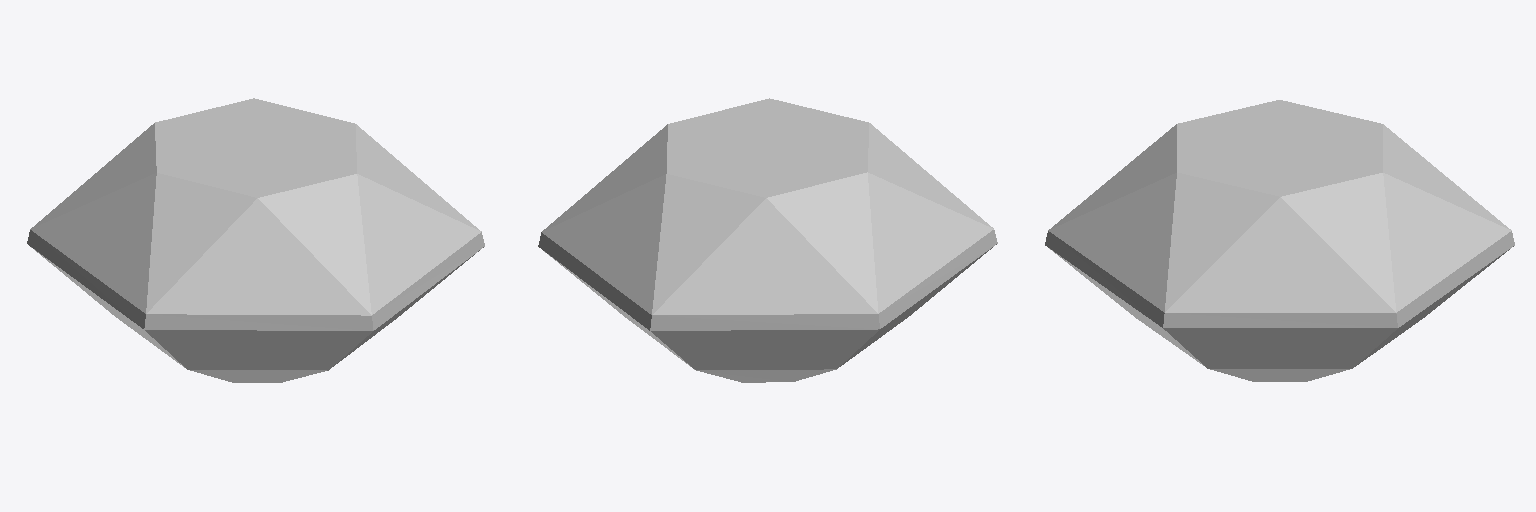
The model's file is Red Gem.obj.
3 renders of one model, left to right at view 1: azimuth 30°, elevation 25°; view 2: azimuth 150°, elevation 25°; view 3: azimuth 270°, elevation 25°, orthographic.
Parts seen in each view (by area): view 1: Red_Gem; view 2: Red_Gem; view 3: Red_Gem.
Boxes of the visible parts, <box> form: Red_Gem: <box>27,98,484,382</box>; Red_Gem: <box>538,98,997,382</box>; Red_Gem: <box>1045,100,1514,381</box>.
Size of the model in its own units: 11.52 by 6.95 by 13.75.